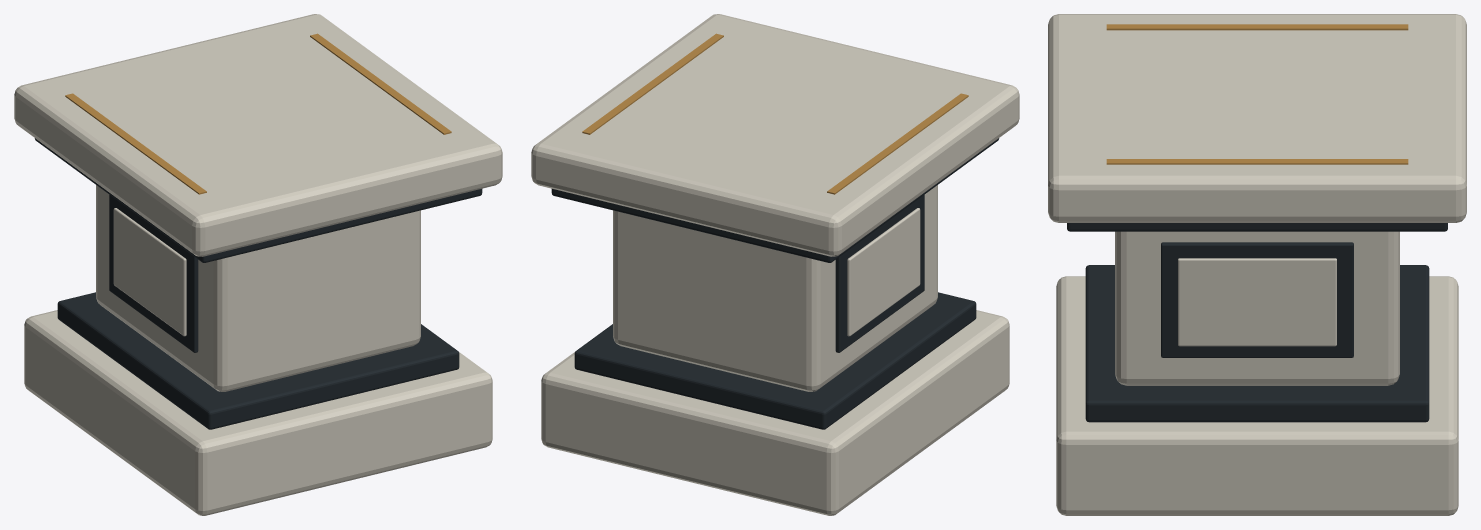
Rendered from SM_Aurelion_KIT_Z02StoneSeat.fbx.
3 views of the same model, side by side, from view 1: azimuth 30°, elevation 25°; view 2: azimuth 150°, elevation 25°; view 3: azimuth 270°, elevation 25° (orthographic). The views are drawn at different scales.
Parts seen in each view (by area): view 1: SM_Aurelion_KIT_Z02StoneSeat; view 2: SM_Aurelion_KIT_Z02StoneSeat; view 3: SM_Aurelion_KIT_Z02StoneSeat.
Part boxes in pixels (bbox=[...]): SM_Aurelion_KIT_Z02StoneSeat: bbox=[14, 14, 502, 515]; SM_Aurelion_KIT_Z02StoneSeat: bbox=[531, 14, 1019, 515]; SM_Aurelion_KIT_Z02StoneSeat: bbox=[1048, 14, 1466, 515].
Size of what is drawn, in the model's own units: 48 by 50 by 45.3.
